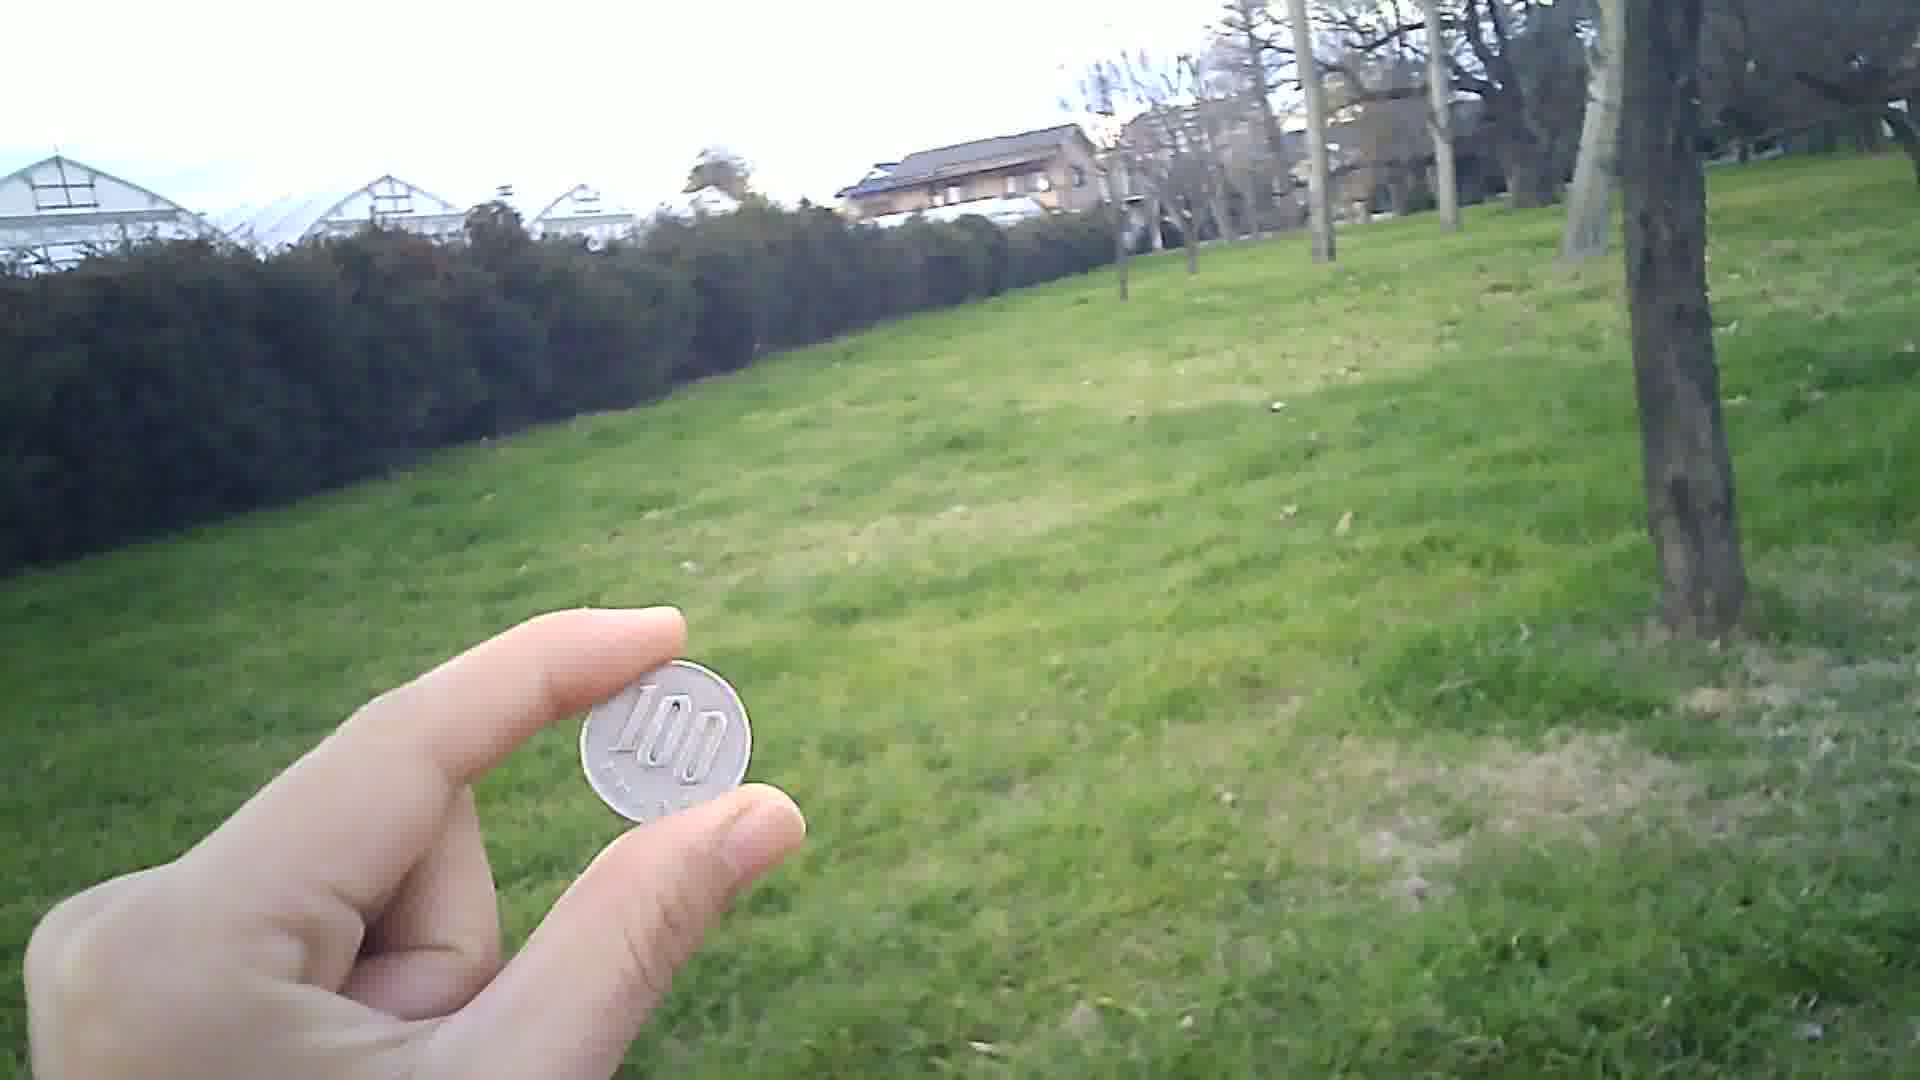100 Yen: (576, 650, 756, 833)
